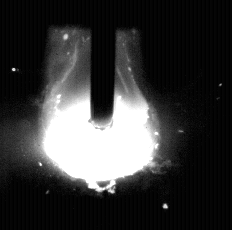arame: (89, 0, 115, 132)
poca: (43, 0, 157, 230)
